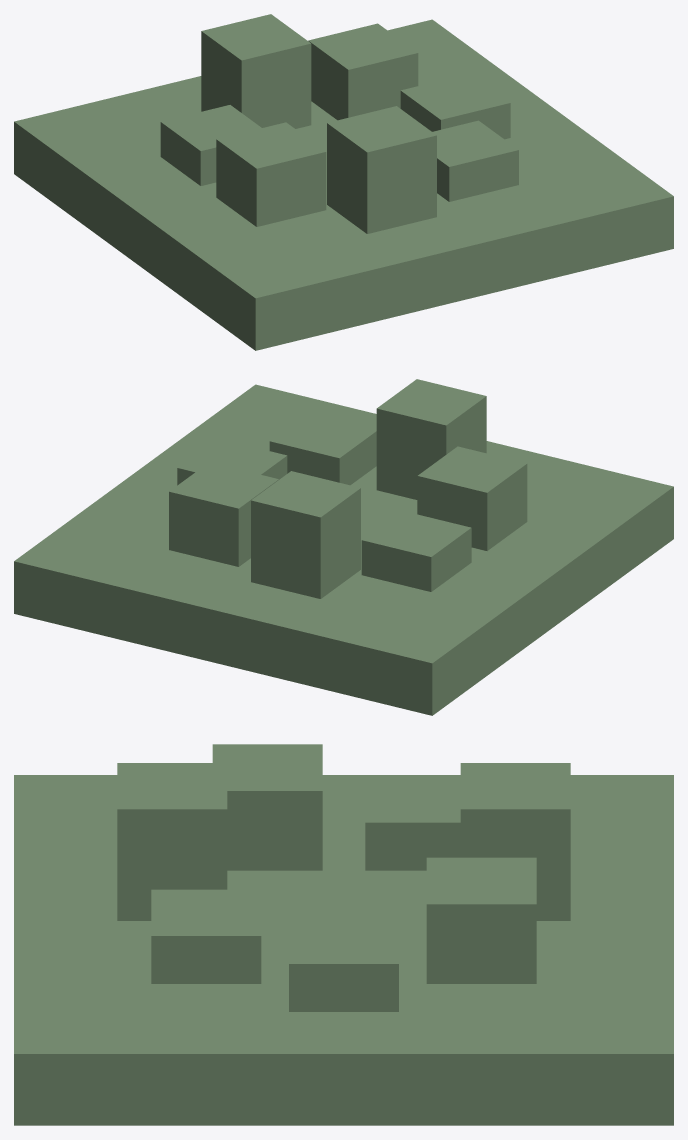
The model's file is montane_forest.glb.
3 views of the same model, one above another, from view 1: azimuth 30°, elevation 25°; view 2: azimuth 150°, elevation 25°; view 3: azimuth 270°, elevation 25° (orthographic). The views are drawn at different scales.
Visible parts, largest first — view 1: montane_forest base, montane_forest relief.005, montane_forest relief.002, montane_forest relief.004, montane_forest relief.001, montane_forest relief.006, montane_forest relief, montane_forest relief.003; view 2: montane_forest base, montane_forest relief.002, montane_forest relief.005, montane_forest relief.004, montane_forest relief.001, montane_forest relief.003, montane_forest relief.006, montane_forest relief; view 3: montane_forest base, montane_forest relief.005, montane_forest relief.001, montane_forest relief.002, montane_forest relief.004, montane_forest relief.006, montane_forest relief, montane_forest relief.003.
Part boxes in pixels (box(x1,y1,x2,y2)): montane_forest base: box(14, 19, 673, 350); montane_forest relief.005: box(327, 106, 436, 233); montane_forest relief.002: box(201, 14, 311, 128); montane_forest relief.004: box(216, 122, 326, 226); montane_forest relief.001: box(308, 23, 418, 120); montane_forest relief.006: box(432, 120, 518, 201); montane_forest relief: box(400, 73, 510, 139); montane_forest relief.003: box(160, 105, 261, 185); montane_forest base: box(14, 384, 673, 715); montane_forest relief.002: box(251, 471, 360, 598); montane_forest relief.005: box(376, 379, 486, 499); montane_forest relief.004: box(417, 446, 527, 550); montane_forest relief.001: box(169, 462, 278, 566); montane_forest relief.003: box(361, 510, 471, 591); montane_forest relief.006: box(269, 412, 376, 485); montane_forest relief: box(177, 438, 287, 485); montane_forest base: box(14, 775, 673, 1125); montane_forest relief.005: box(117, 763, 227, 920); montane_forest relief.001: box(426, 857, 536, 983); montane_forest relief.002: box(460, 763, 570, 920); montane_forest relief.004: box(212, 744, 322, 870); montane_forest relief.006: box(151, 889, 261, 983); montane_forest relief: box(289, 917, 398, 1011); montane_forest relief.003: box(365, 776, 460, 870).
Bounding box in the file's own units: 3 × 0.92 × 3.
